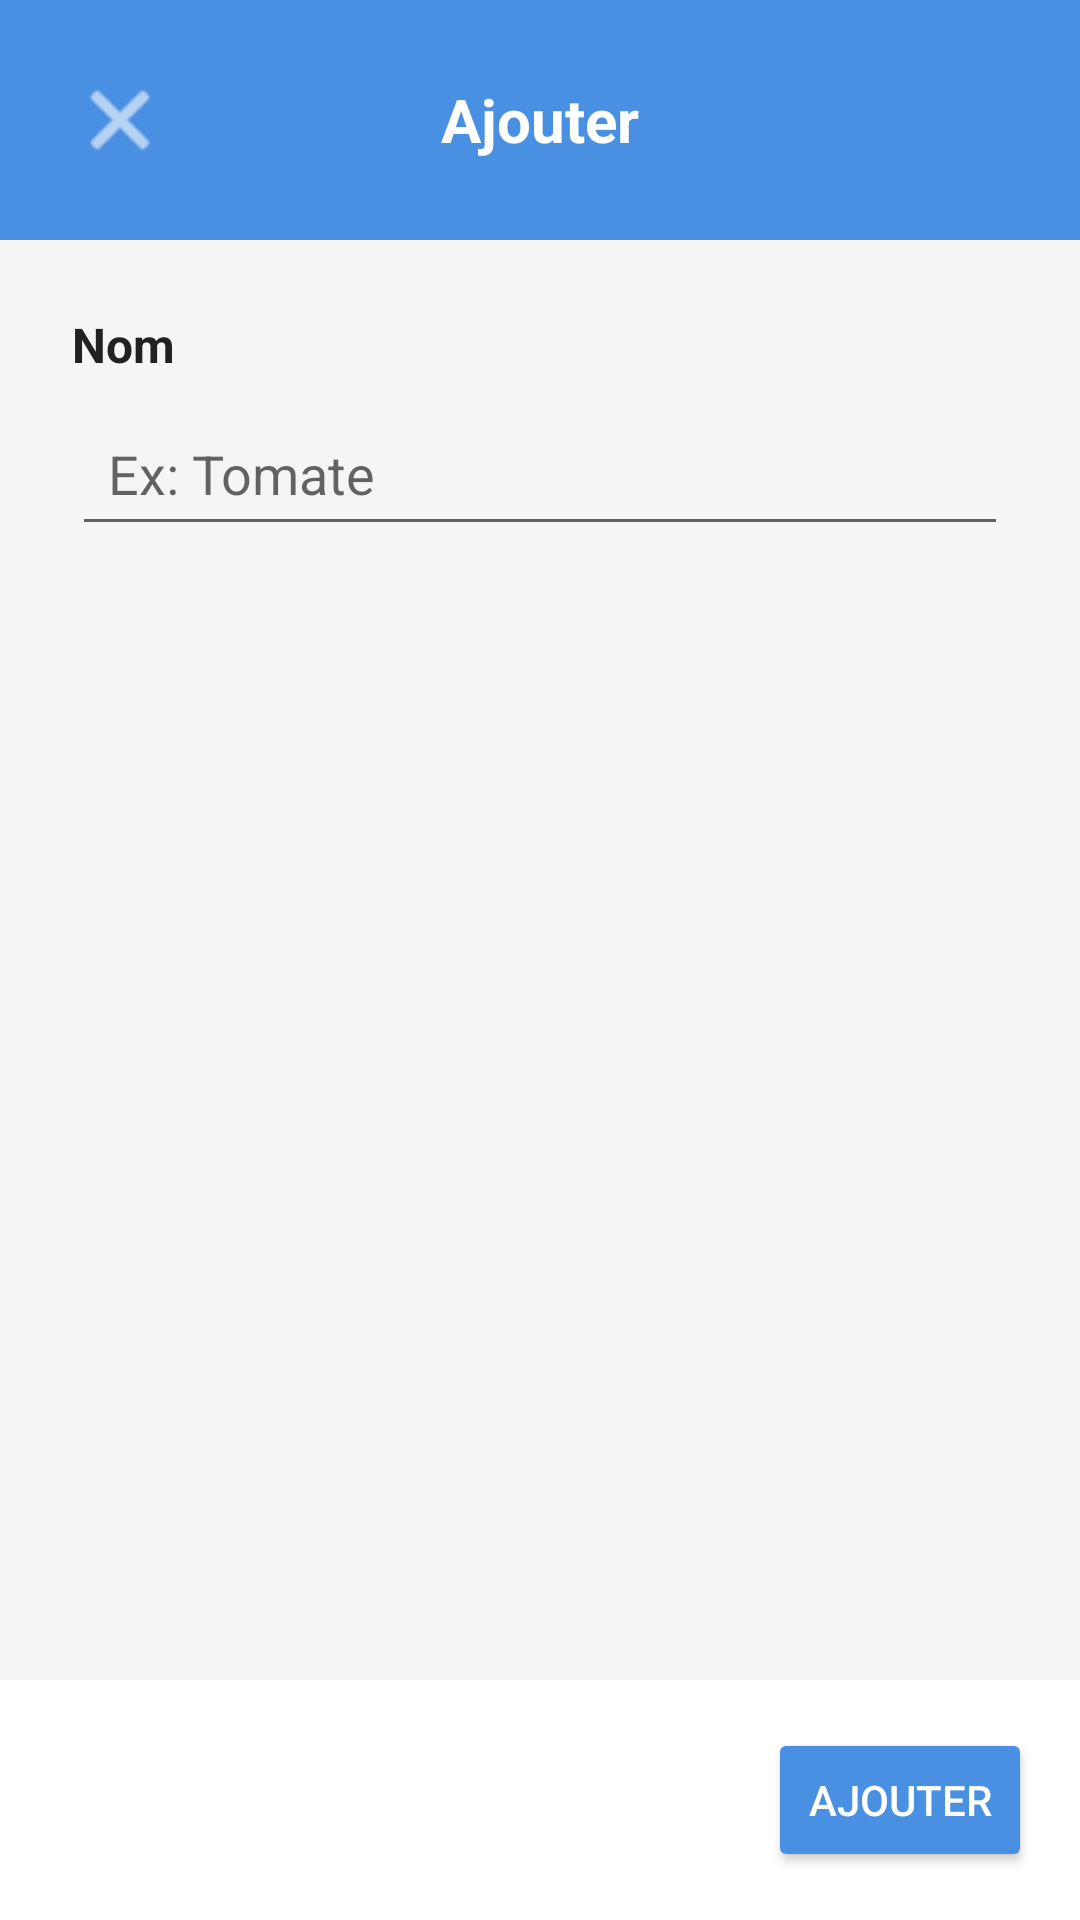

Icons on this 1080px×1920px Android screen, each with the point to tap as (x=x, y=y):
Retour: (x=120, y=120)
